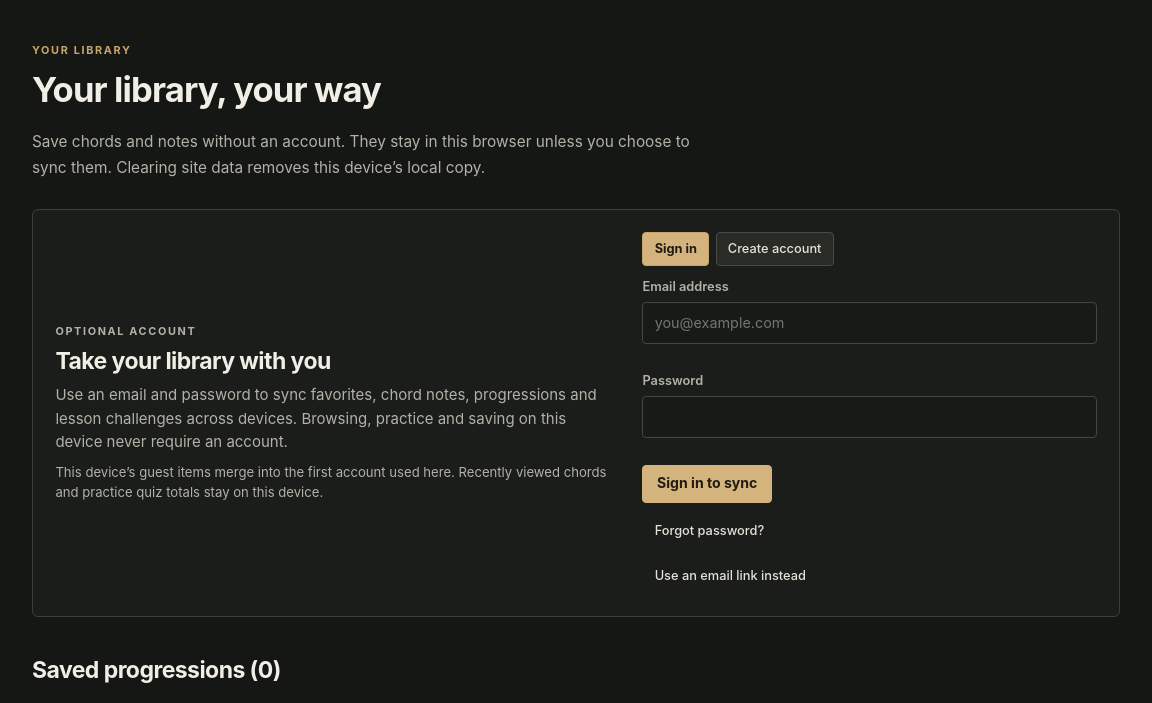
Test case: optional account onboarding › preserves optional email-link sign-in for existing accounts
Click the button "Use an email link instead" at point(730, 576), box x1=642 y1=559 x2=818 y2=593
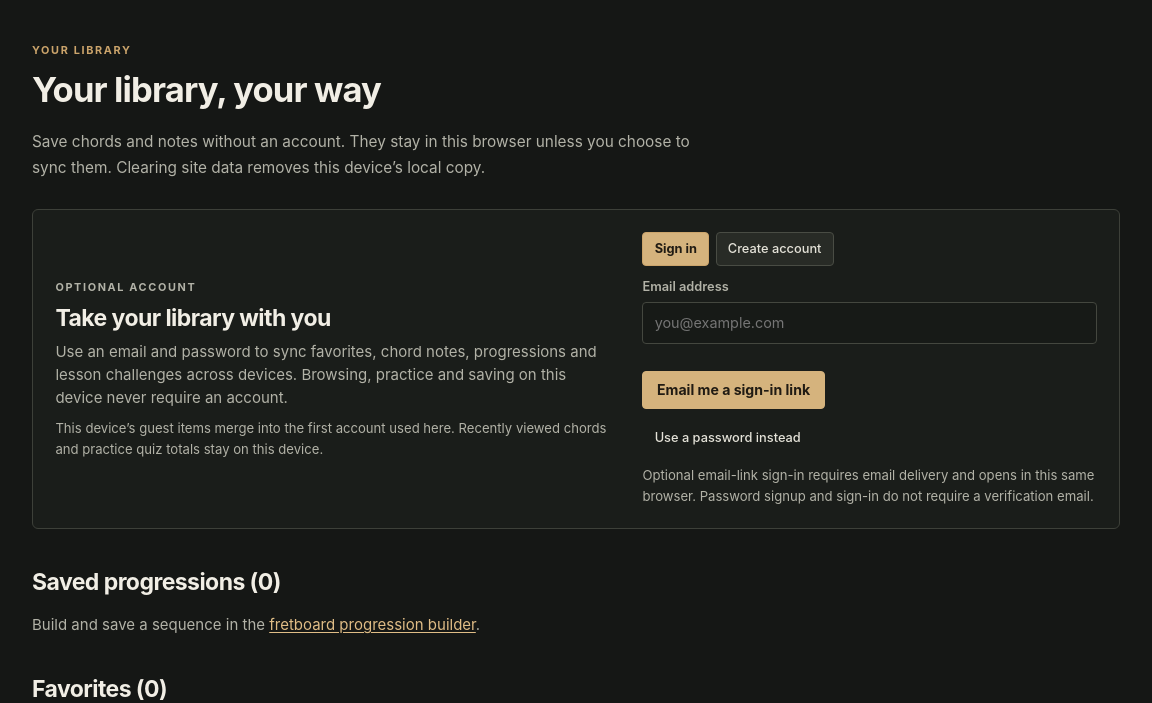
Type "player@example.com" into the field labelled "Email address" at point(870, 323), box x1=642 y1=302 x2=1097 y2=344
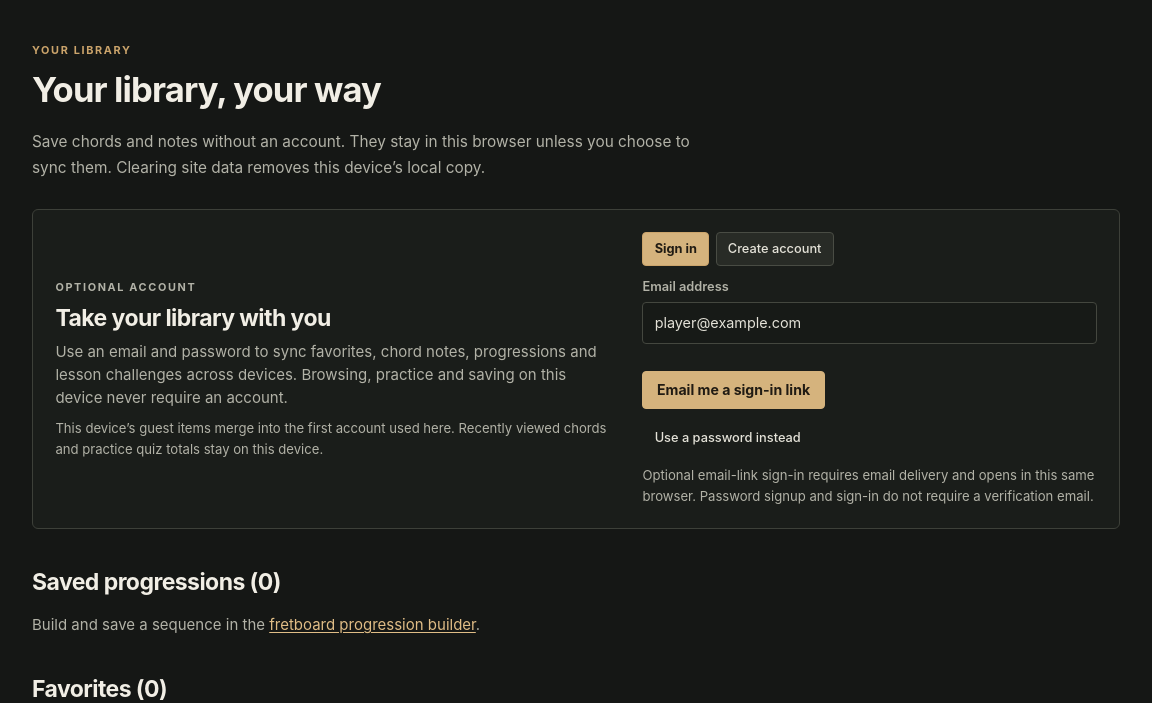
Click the button "Email me a sign-in link" at point(734, 390), box x1=642 y1=371 x2=825 y2=409
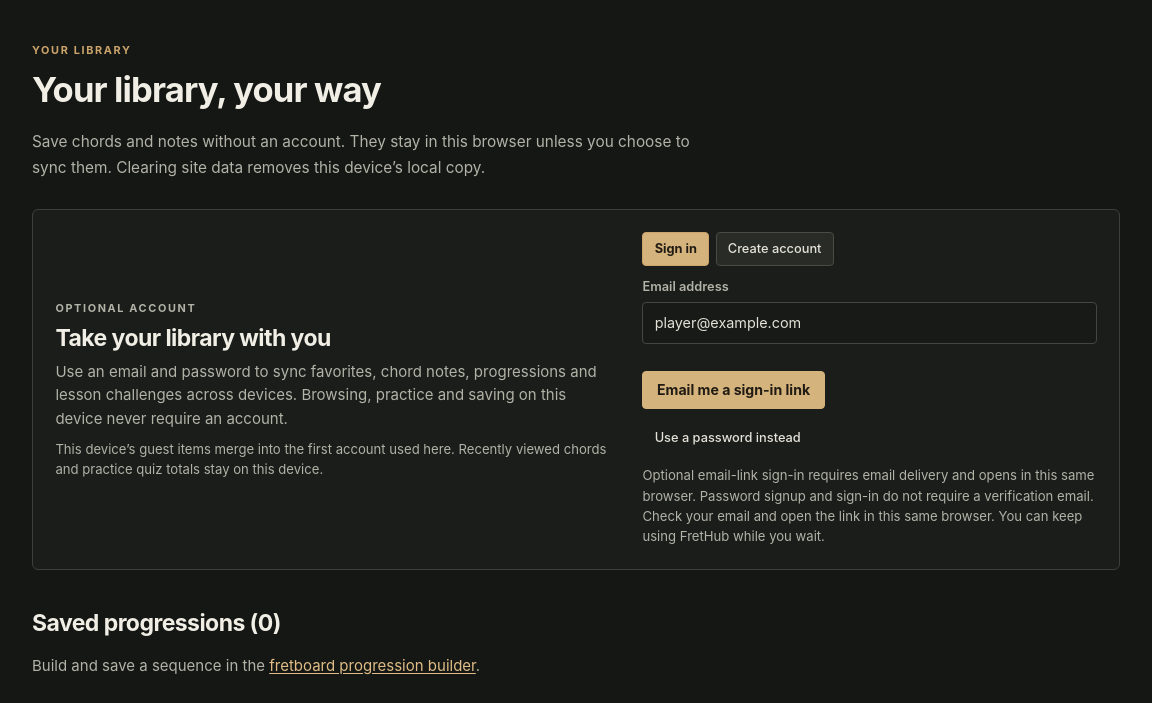
Check: the text "open the link in this same browser" is shown, box x1=642 y1=508 x2=1082 y2=544
Click the button "Use a password instead" at point(728, 437), box x1=642 y1=420 x2=813 y2=454
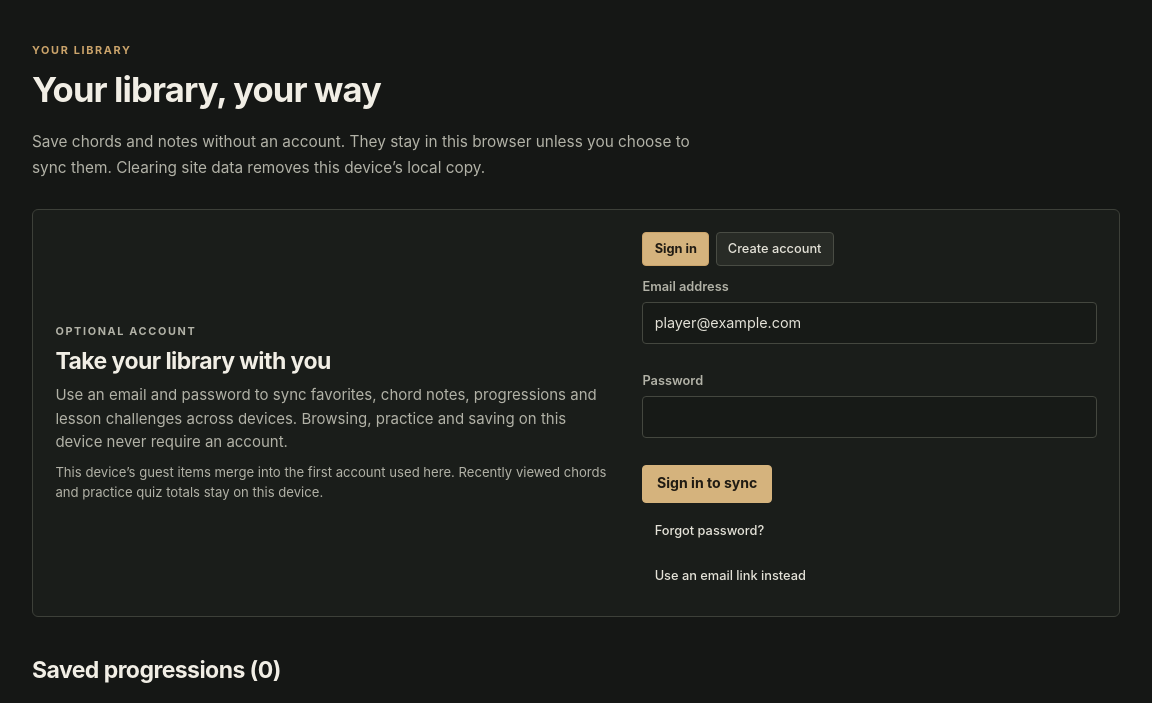
Check: the password field labelled "Password" is shown, box x1=642 y1=396 x2=1097 y2=438
